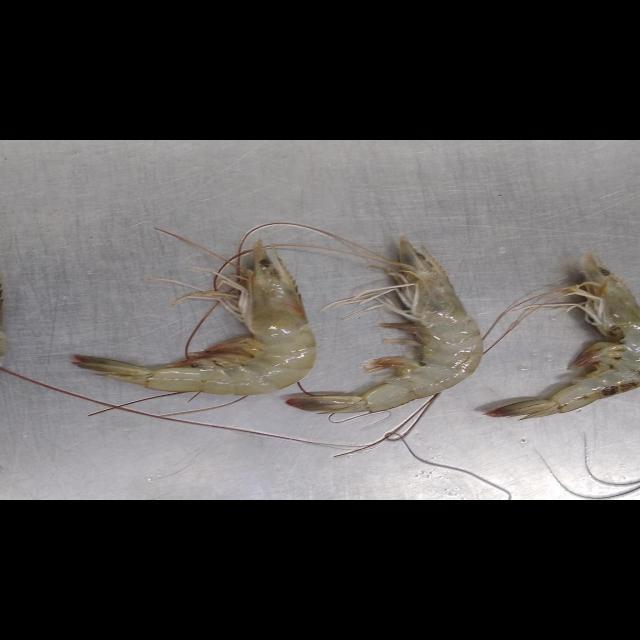shrimp: (73, 242, 316, 395), (287, 239, 482, 412), (487, 255, 640, 419)
